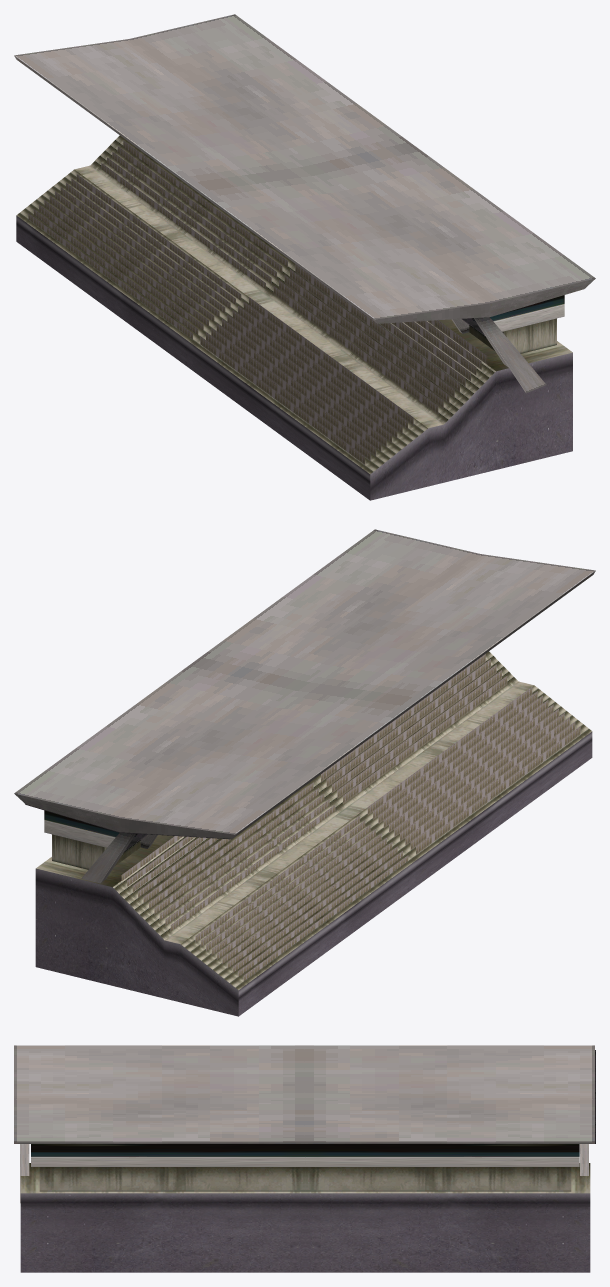
Rendered from main_grandstand.glb.
3 views of the same model, one above another, from view 1: azimuth 30°, elevation 25°; view 2: azimuth 150°, elevation 25°; view 3: azimuth 270°, elevation 25° (orthographic). The views are drawn at different scales.
Visible parts, largest first — view 1: main_grandstand; view 2: main_grandstand; view 3: main_grandstand.
Boxes of the visible parts, box(x1,y1,x2,y2) form: main_grandstand: box(14, 14, 595, 500); main_grandstand: box(14, 529, 595, 1016); main_grandstand: box(14, 1045, 595, 1272).
Bounding box in the file's own units: 22.32 × 17.7 × 63.04.
8 materials, 8 textured.
